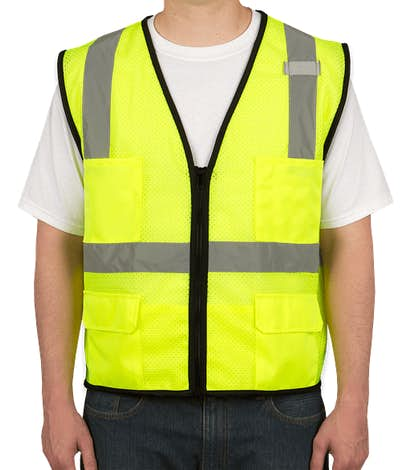Reflective vest: (52, 9, 352, 398)
